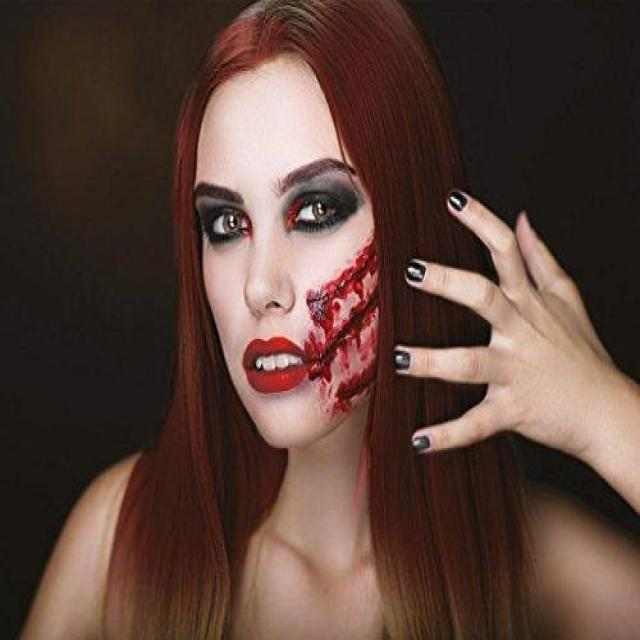flood: (275, 181, 428, 429)
